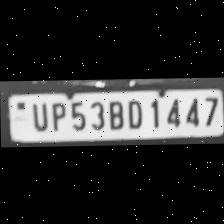1: (144, 97, 162, 128)
3: (86, 96, 104, 130)
4: (180, 94, 200, 127), (161, 95, 181, 127)
5: (66, 98, 86, 131)
7: (200, 95, 218, 126)
B: (104, 97, 124, 130)
D: (124, 97, 144, 130)
P: (46, 99, 66, 131)
U: (28, 100, 48, 131)
